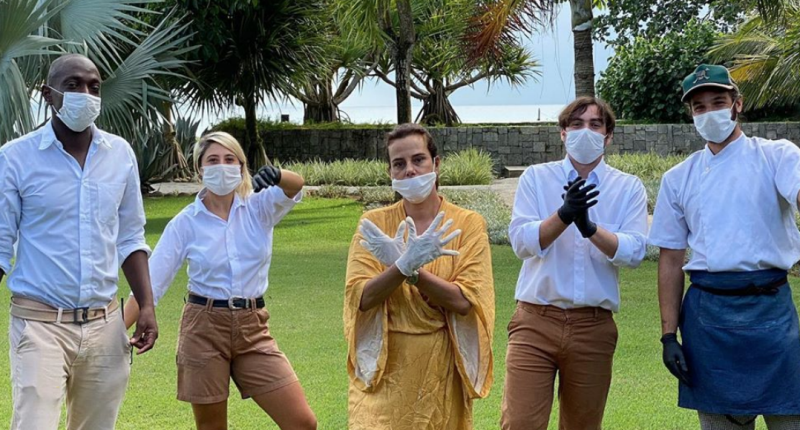mask_weared_incorrect: (381, 132, 441, 206)
with_mask: (39, 65, 104, 130), (193, 142, 247, 198), (558, 109, 614, 163), (683, 88, 746, 135)
